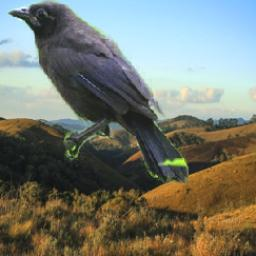Crow: (7, 0, 189, 184)
